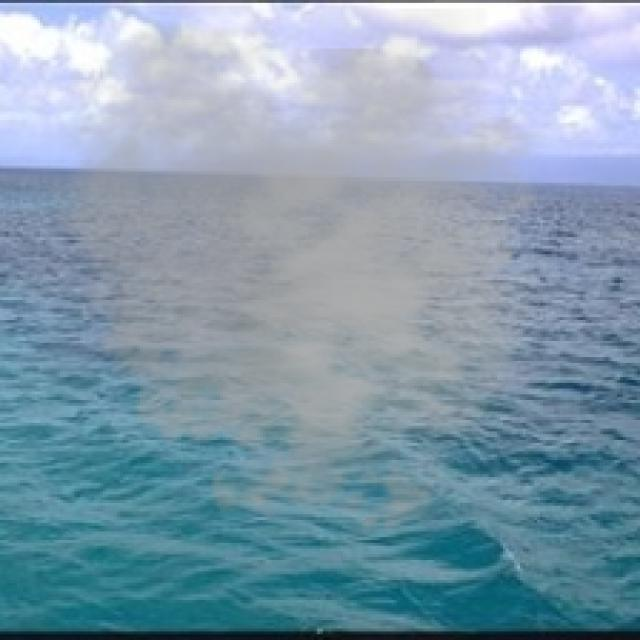smoke: (34, 9, 583, 552)
